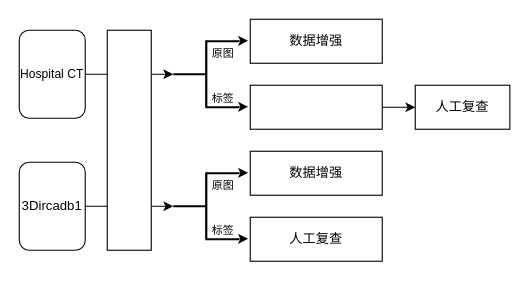
This 529x281 diagram has some shape labels left out. Each missing label, with the centre of its shape:
"形态学五步操作" goes at pixel 315 106.
"数 据 切 片" goes at pixel 128 139.
